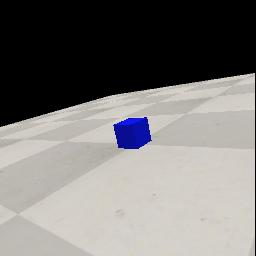box: (113, 117, 152, 149)
